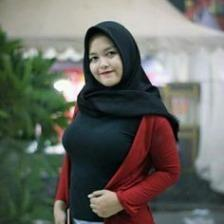Non Syar-i: (75, 19, 179, 142)
